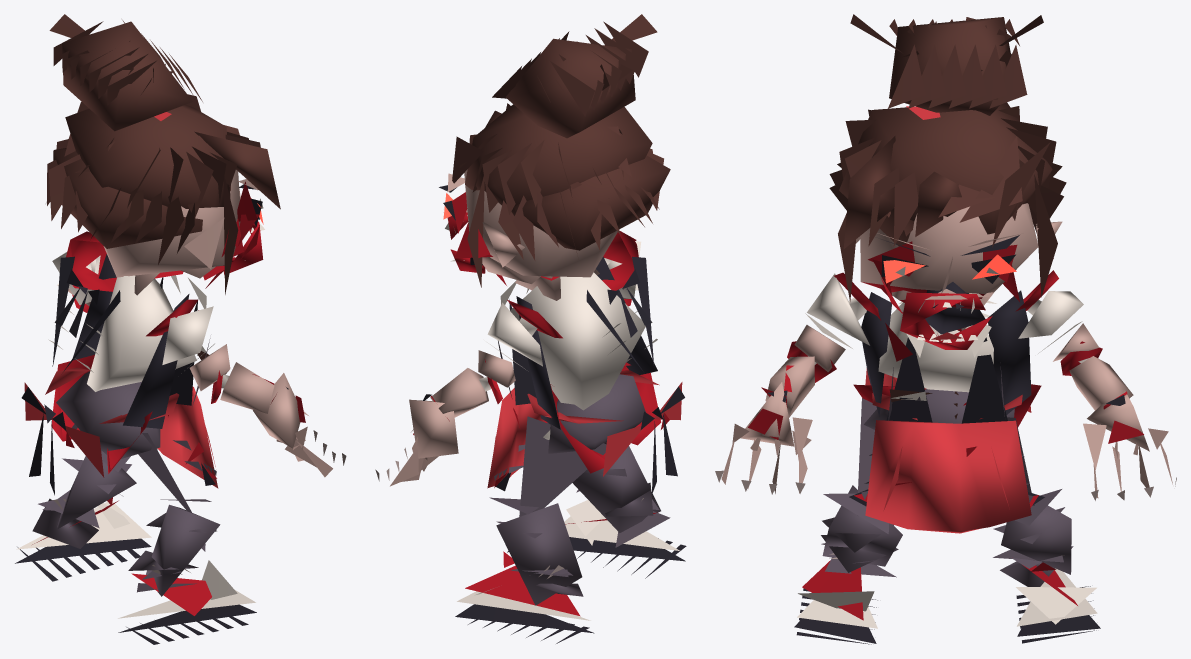
File: inf.cashier.corpse.glb
3 renders of one model, left to right at view 1: azimuth 30°, elevation 25°; view 2: azimuth 150°, elevation 25°; view 3: azimuth 270°, elevation 25°, orthographic. The views are drawn at different scales.
Parts seen in each view (by area): view 1: head, torso, hip, footR, shinL, footL, shinR, armR, handR, stump_armL, foreArmR, legR (+2 smaller); view 2: head, torso, hip, shinL, footL, shinR, legL, footR, handL, armL, foreArmL, stump_armR (+3 smaller); view 3: head, hip, torso, shinL, footR, shinR, footL, handR, handL, armR, armL, foreArmL (+3 smaller).
Boxes of the visible parts, x1,y1,x2,y2 form: head: (46,14,280,295); torso: (48,254,210,428); hip: (21,367,218,495); footR: (118,560,256,644); shinL: (32,450,136,548); footL: (15,490,151,581); shinR: (128,499,220,596); armR: (162,306,230,390); handR: (253,373,346,477); stump_armL: (66,231,116,291); foreArmR: (220,362,288,413); legR: (138,433,216,513); head: (439,14,670,300); torso: (498,256,657,429); hip: (487,370,684,493); shinL: (489,497,583,605); footL: (455,565,594,643); shinR: (572,446,670,547); legL: (494,416,606,516); footR: (564,498,686,578); handL: (375,399,458,486); armL: (478,302,542,387); foreArmL: (422,368,488,421); stump_armR: (602,230,638,290); head: (829,14,1066,349); hip: (864,368,1031,533); torso: (861,289,1031,423); shinL: (993,489,1073,586); footR: (794,543,877,644); shinR: (821,485,902,577); footL: (1016,555,1100,643); handR: (715,382,812,494); handL: (1083,389,1176,500); armR: (794,273,869,372); armL: (1018,291,1098,361); foreArmL: (1069,356,1133,410).
Bounding box in the file's own units: 0.7202 × 1.81 × 1.26.
